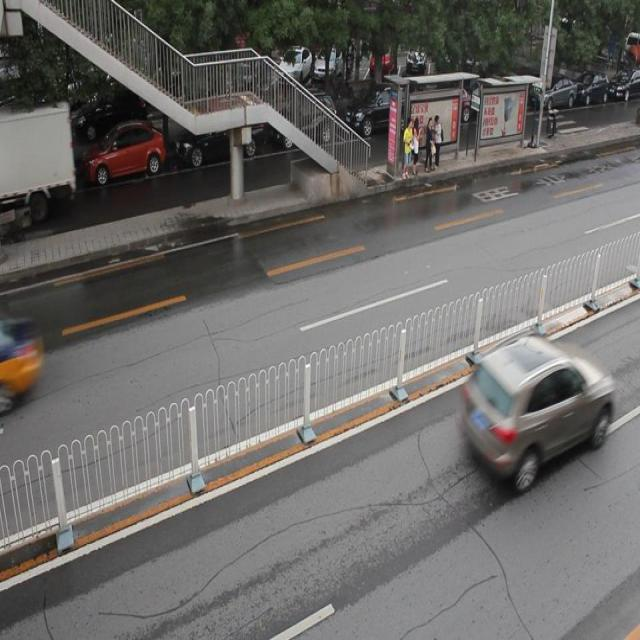bus: (0, 100, 74, 237)
car: (464, 335, 610, 483), (82, 122, 166, 186), (175, 105, 262, 165), (343, 80, 412, 139), (1, 137, 66, 197), (1, 320, 41, 415), (271, 94, 335, 150)
